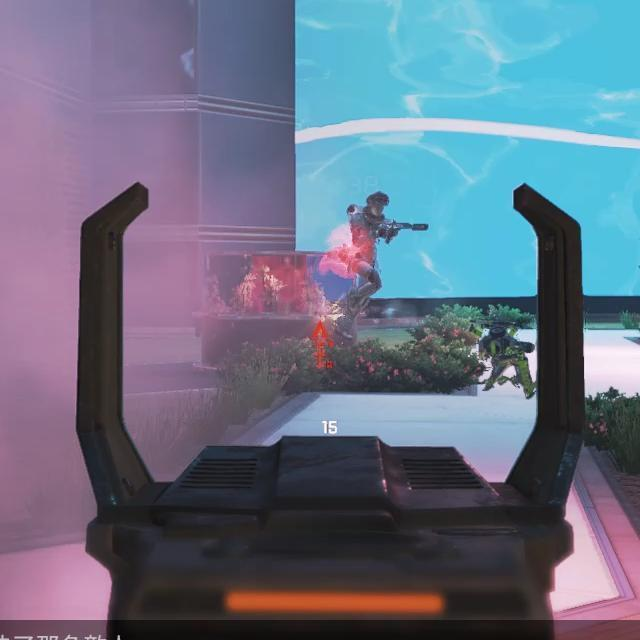avatar: (340, 188, 392, 339)
